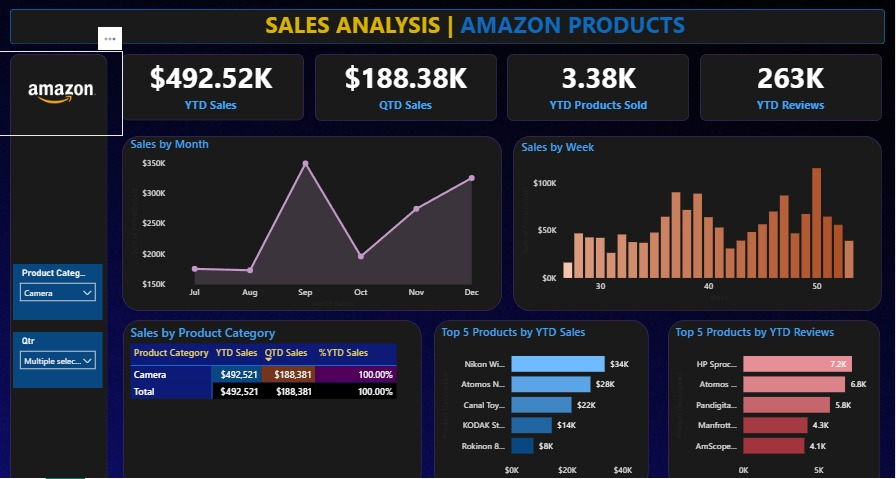

This screenshot's page, from the dashboard's own definition file:
{"tool":"powerbi","page":{"name":"Page 1","canvas":[1280,720],"ordinal":0},"visuals":[{"type":"shape","box":[15.1,15.1,1249.8,50.4],"z":0},{"type":"shape","box":[176.4,80.6,260,95],"z":1000},{"type":"textbox","box":[376.3,10.1,624.9,55.4],"z":2000},{"type":"card","fields":{"Values":["Amazon_Data.YTD Sales"]},"box":[176.4,80.6,253.6,87.3],"z":3000},{"type":"shape","box":[15.1,80.6,139.4,621.5],"z":4000},{"type":"shape","box":[451.1,80.6,260.4,95.7],"z":5000},{"type":"shape","box":[726.1,80.6,260.4,95.7],"z":6000},{"type":"shape","box":[1001.2,80.6,260.4,95.7],"z":7000},{"type":"shape","box":[176.4,196.5,543,250],"z":8000},{"type":"card","fields":{"Values":["Amazon_Data.QTD Sales"]},"box":[465.3,80.6,230.1,87.3],"z":9000},{"type":"card","fields":{"Values":["Amazon_Data.YTD Products Sold"]},"box":[740.8,80.6,230.1,87.3],"z":10000},{"type":"card","fields":{"Values":["Amazon_Data.YTD Reviews"]},"box":[1016.3,80.6,230.1,87.3],"z":11000},{"type":"areaChart","title":" Sales by Month","fields":{"Category":["Date Table.Month Name"],"Y":["Sum(Amazon_Data.Price(Dollar))"]},"box":[183.1,196.5,529.1,250.3],"z":12000},{"type":"shape","box":[734.1,196.5,527.5,250.3],"z":13000},{"type":"columnChart","title":"Sales by Week","fields":{"Category":["Date Table.Week"],"Y":["Sum(Amazon_Data.Price(Dollar))"]},"box":[741.1,201.8,516.1,237.5],"z":14000},{"type":"shape","box":[176.7,460,426.7,241.7],"z":15000},{"type":"pivotTable","title":"Sales by Product Category","fields":{"Rows":["Amazon_Data.Product Category"],"Values":["Amazon_Data.YTD Sales1","Amazon_Data.QTD Sales","Amazon_Data.YTD Sales"]},"box":[183.3,465,420,236.7],"z":16000},{"type":"shape","box":[621.7,460,306.7,241.7],"z":17000},{"type":"shape","box":[955,460,303.3,241.7],"z":18000},{"type":"clusteredBarChart","title":"Top 5 Products by YTD Sales","fields":{"Category":["Amazon_Data.Product Description"],"Y":["Amazon_Data.YTD Sales"]},"box":[626.7,465,301.7,226.7],"z":19000},{"type":"clusteredBarChart","title":"Top 5 Products by YTD Reviews","fields":{"Category":["Amazon_Data.Product Description"],"Y":["Amazon_Data.YTD Reviews"]},"box":[961.7,465,290,226.7],"z":20000},{"type":"slicer","fields":{"Values":["Amazon_Data.Product Category"]},"box":[20,380,128.3,80],"z":21000},{"type":"slicer","fields":{"Values":["Date Table.Qtr"]},"box":[20,476.7,128.3,80],"z":22000},{"type":"image","box":[0,75,176.7,121.7],"z":22001}]}

Visuals, with their boxes on the page's 1280x720 design canvas (x1, y1, x2, y2). These are canvas units, not pixel positions in the 896x479 screenshot, which may show the page scaled, cropped or inside an application window:
shape: l=15, t=15, r=1265, b=66
shape: l=176, t=81, r=436, b=176
textbox: l=376, t=10, r=1001, b=66
card - Amazon_Data.YTD Sales: l=176, t=81, r=430, b=168
shape: l=15, t=81, r=154, b=702
shape: l=451, t=81, r=712, b=176
shape: l=726, t=81, r=986, b=176
shape: l=1001, t=81, r=1262, b=176
shape: l=176, t=196, r=719, b=446
card - Amazon_Data.QTD Sales: l=465, t=81, r=695, b=168
card - Amazon_Data.YTD Products Sold: l=741, t=81, r=971, b=168
card - Amazon_Data.YTD Reviews: l=1016, t=81, r=1246, b=168
" Sales by Month" areaChart: l=183, t=196, r=712, b=447
shape: l=734, t=196, r=1262, b=447
"Sales by Week" columnChart: l=741, t=202, r=1257, b=439
shape: l=177, t=460, r=603, b=702
"Sales by Product Category" pivotTable: l=183, t=465, r=603, b=702
shape: l=622, t=460, r=928, b=702
shape: l=955, t=460, r=1258, b=702
"Top 5 Products by YTD Sales" clusteredBarChart: l=627, t=465, r=928, b=692
"Top 5 Products by YTD Reviews" clusteredBarChart: l=962, t=465, r=1252, b=692
slicer - Amazon_Data.Product Category: l=20, t=380, r=148, b=460
slicer - Date Table.Qtr: l=20, t=477, r=148, b=557
image: l=0, t=75, r=177, b=197
